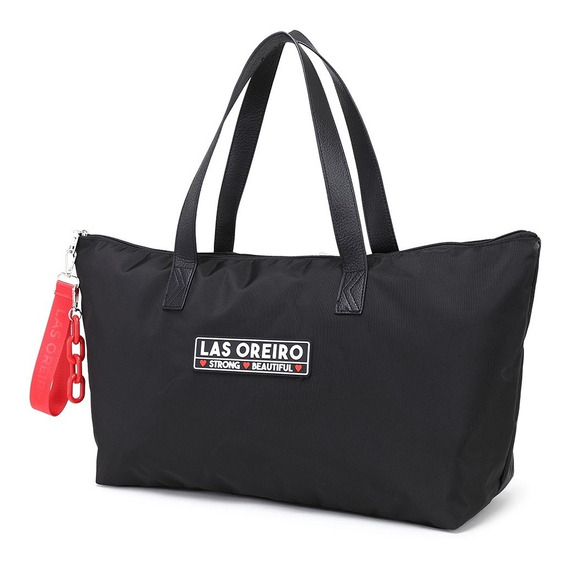cartera: (30, 28, 542, 532)
